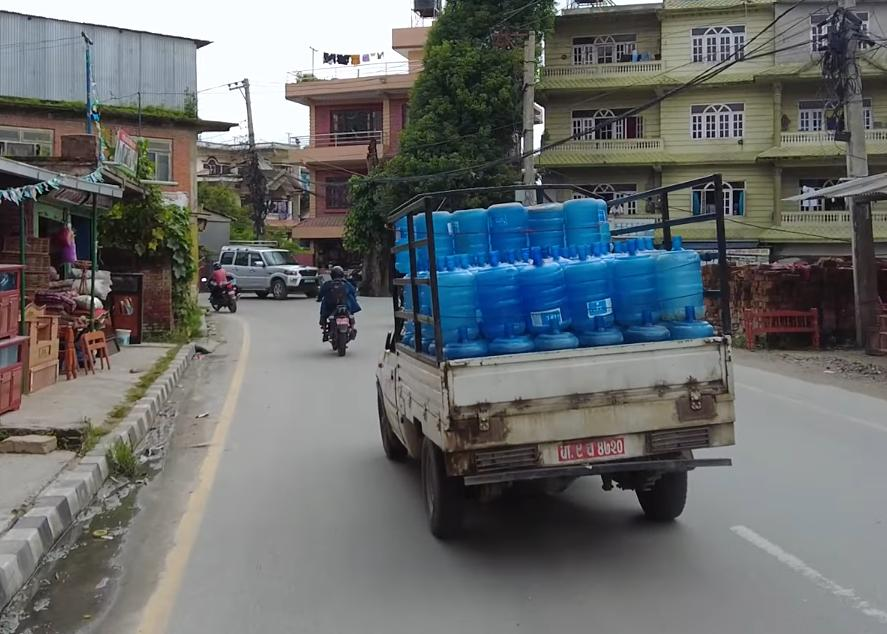SUV: (217, 235, 323, 297)
bike: (302, 259, 365, 364)
transport_vehicle: (371, 185, 745, 545)
